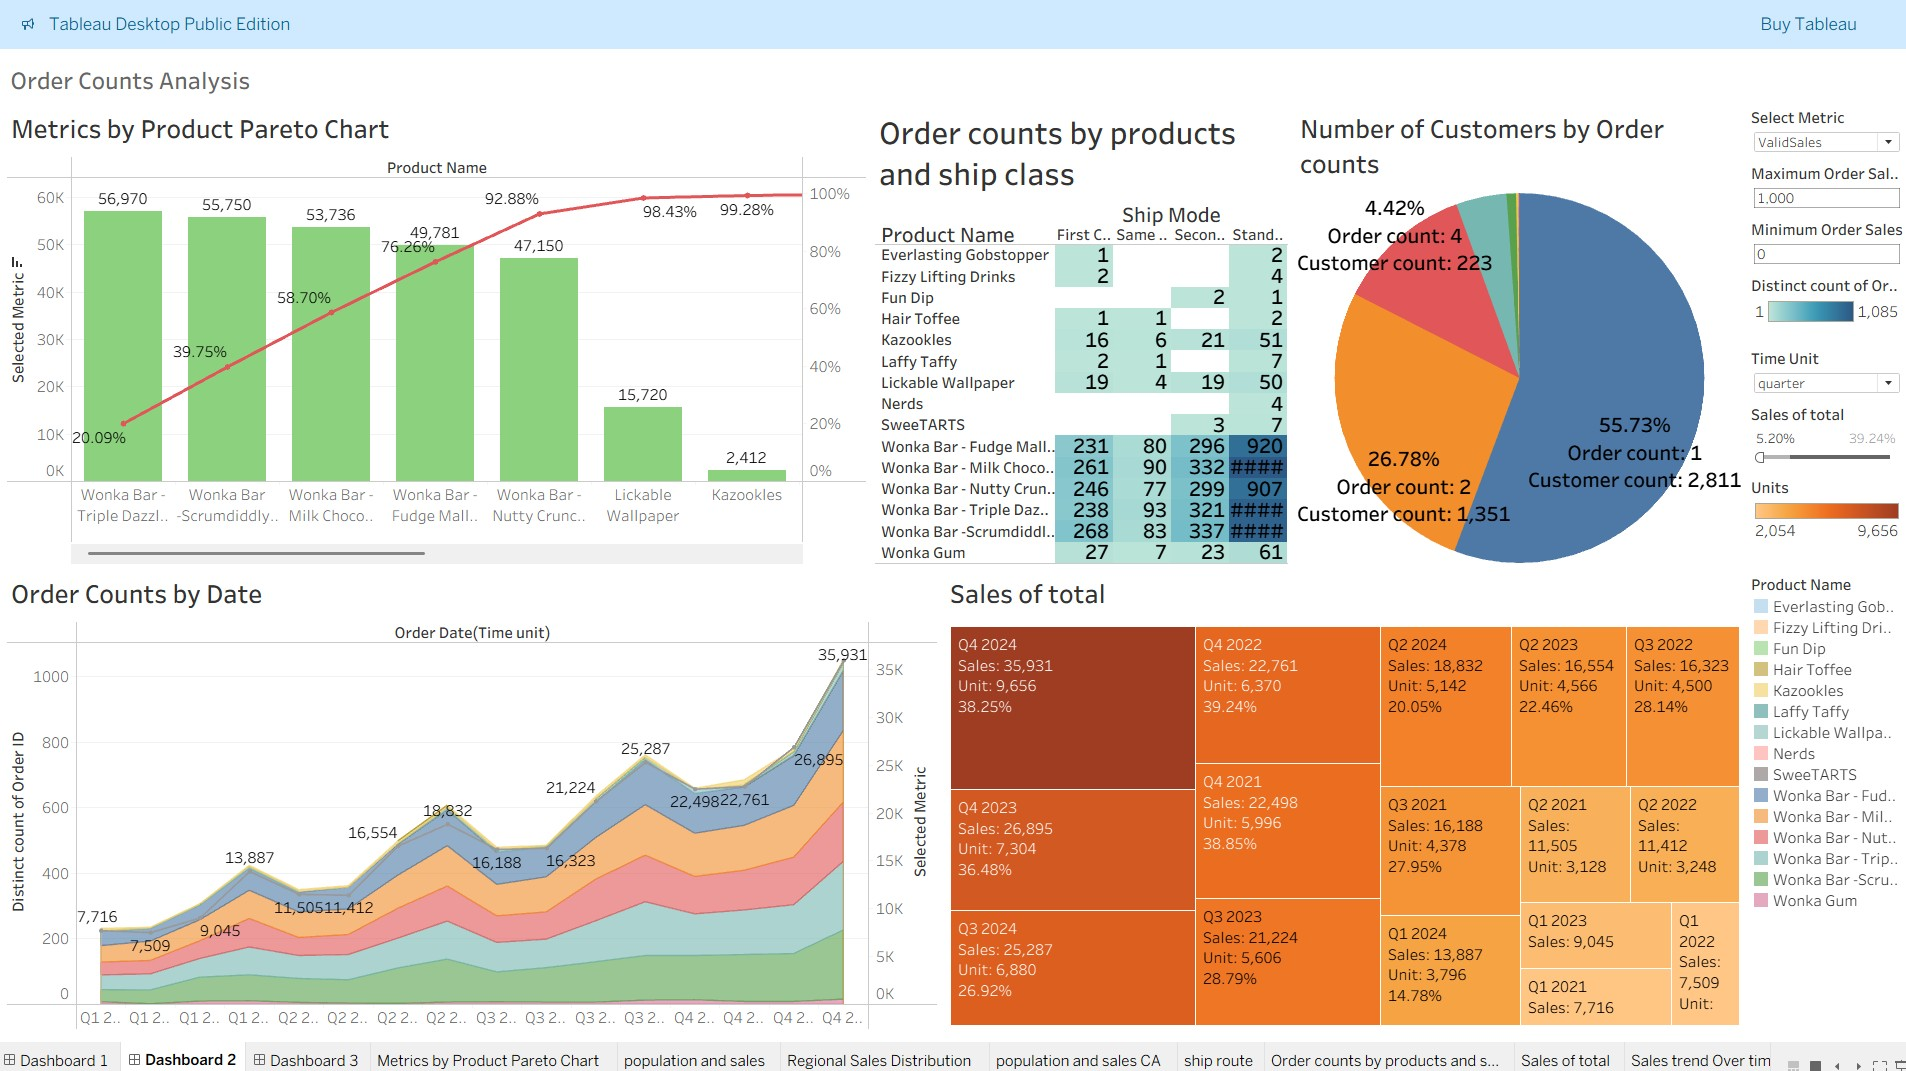

Layout of this report page (visuals, bound fields, positions):
{"tool":"tableau","page":{"name":"Dashboard 2","canvas":[1000,1000],"units":"permille","ordinal":1},"visuals":[{"type":"text","box":[3.6,6.3,992.9,46.5]},{"type":"worksheet","title":"Metrics by Product Pareto Chart","mark":"Bar","rows":["Calculation_6283928859749187584","Calculation_6283928859749187584"],"cols":["Product Name"],"box":[3.6,52.9,458.5,470.4]},{"type":"worksheet","title":"Order counts by products and ship class","mark":"Square","rows":["Product Name"],"cols":["Ship Mode"],"box":[462.1,52.9,222.4,470.4]},{"type":"worksheet","title":"Number of Customers by Order counts","mark":"Pie","box":[684.5,52.9,240.7,470.4]},{"type":"parameter","param":"[Parameters].[Parameter 6]","box":[925.1,52.9,71.3,47.4]},{"type":"parameter","param":"[Parameters].[Parameter 4]","box":[925.1,100.2,71.3,47.4]},{"type":"parameter","param":"[Parameters].[Parameter 3]","box":[925.1,147.6,71.3,47.4]},{"type":"legend","title":"Order counts by products and ship class","param":"[federated.1p94yvg0sf2p63112fp8r1g3j99v].[ctd:Order ID:qk]","box":[925.1,194.9,71.3,63.9]},{"type":"parameter","param":"[Parameters].[Parameter 2]","box":[925.1,258.8,71.3,47.4]},{"type":"filter","title":"Sales of total","param":"[federated.1p94yvg0sf2p63112fp8r1g3j99v].[usr:Calculation_1639591744018858004:qk","box":[925.1,306.2,71.3,60.8]},{"type":"legend","title":"Sales of total","param":"[federated.1p94yvg0sf2p63112fp8r1g3j99v].[sum:Units:qk]","box":[925.1,366.9,71.3,63.9]},{"type":"legend","title":"Order Counts by Date","param":"[federated.1p94yvg0sf2p63112fp8r1g3j99v].[:Measure Names]","box":[925.1,430.9,71.3,21.3]},{"type":"legend","title":"Order Counts by Date","param":"[federated.1p94yvg0sf2p63112fp8r1g3j99v].[none:Product Name:nk]","box":[925.1,452.2,71.3,322.8]},{"type":"worksheet","title":"Order Counts by Date","mark":"Area","rows":["Order ID","Calculation_6283928859749187584"],"cols":["Calculation_1639591744010702856"],"box":[3.6,523.2,496.4,470.4]},{"type":"worksheet","title":"Sales of total","mark":"Automatic","box":[499.9,523.2,425.2,470.4]}]}

Visuals, with their boxes on the dashboard's canvas, which has no fixed pixel size, in thousandths of its width and height (x1, y1, x2, y2). These are canvas units, not pixel positions in the 1906x1071 screenshot, which may show the page scaled, cropped or inside an application window:
text: (left=4, top=6, right=996, bottom=53)
"Metrics by Product Pareto Chart" worksheet (Bar marks): (left=4, top=53, right=462, bottom=523)
"Order counts by products and ship class" worksheet (Square marks): (left=462, top=53, right=684, bottom=523)
"Number of Customers by Order counts" worksheet (Pie marks): (left=684, top=53, right=925, bottom=523)
parameter: (left=925, top=53, right=996, bottom=100)
parameter: (left=925, top=100, right=996, bottom=148)
parameter: (left=925, top=148, right=996, bottom=195)
"Order counts by products and ship class" legend: (left=925, top=195, right=996, bottom=259)
parameter: (left=925, top=259, right=996, bottom=306)
"Sales of total" filter: (left=925, top=306, right=996, bottom=367)
"Sales of total" legend: (left=925, top=367, right=996, bottom=431)
"Order Counts by Date" legend: (left=925, top=431, right=996, bottom=452)
"Order Counts by Date" legend: (left=925, top=452, right=996, bottom=775)
"Order Counts by Date" worksheet (Area marks): (left=4, top=523, right=500, bottom=994)
"Sales of total" worksheet: (left=500, top=523, right=925, bottom=994)
